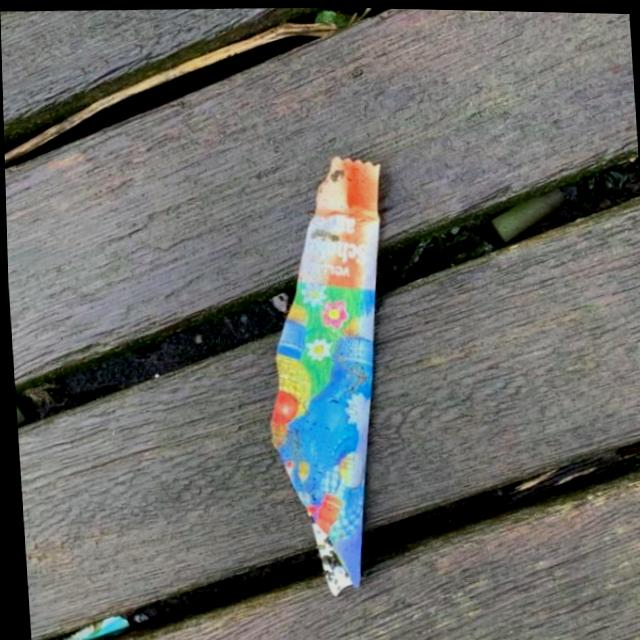Plastic: (246, 147, 407, 599)
